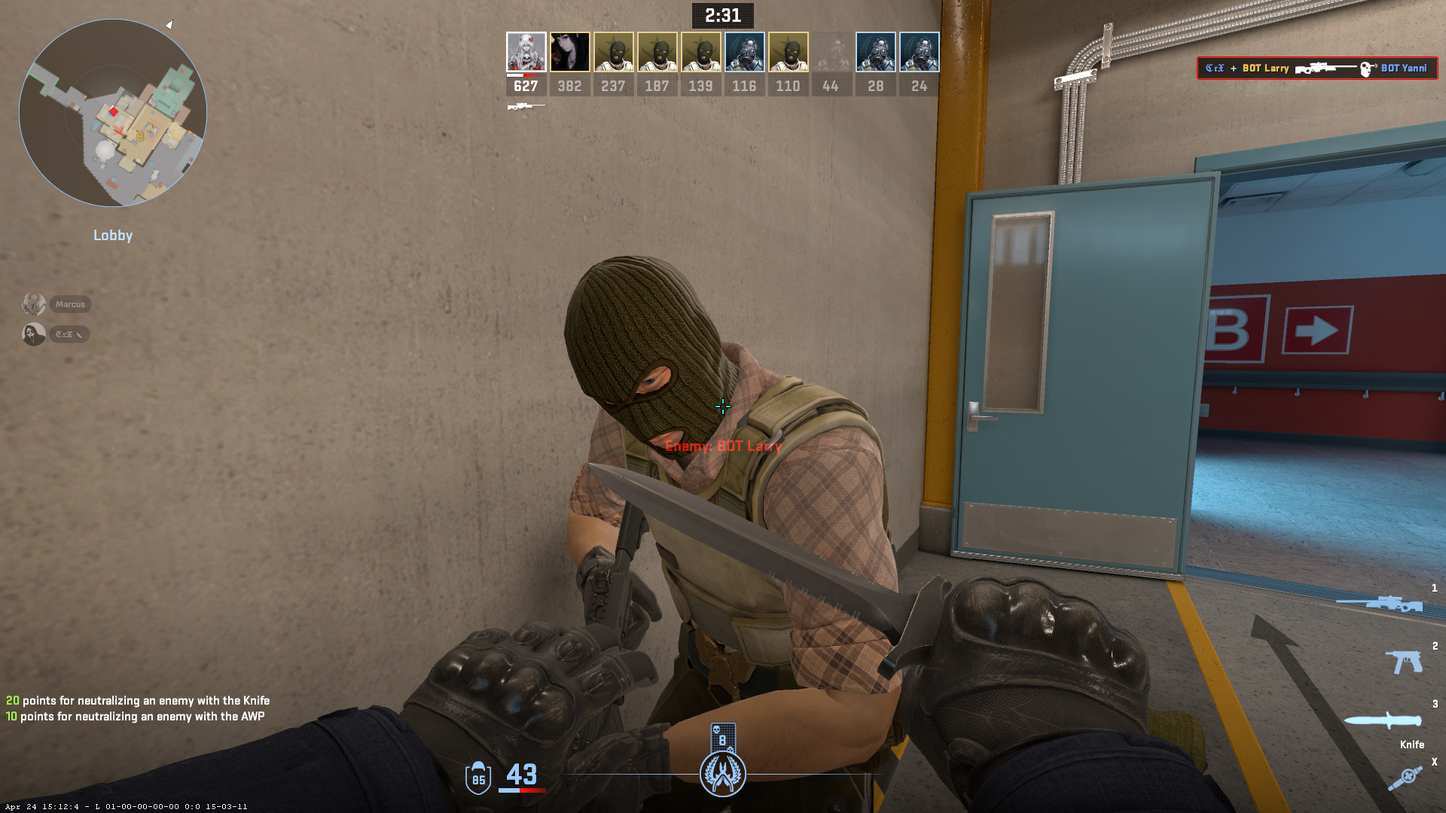T: (570, 255, 897, 813)
